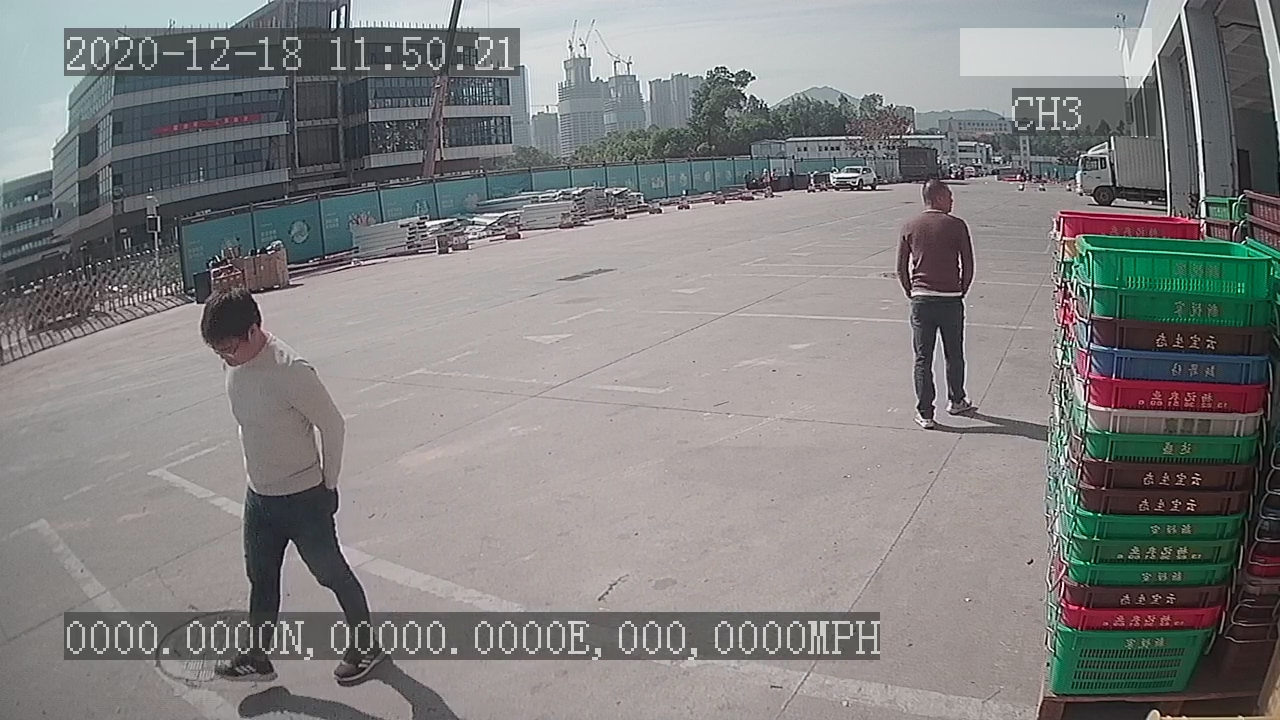person: (893, 172, 983, 435)
